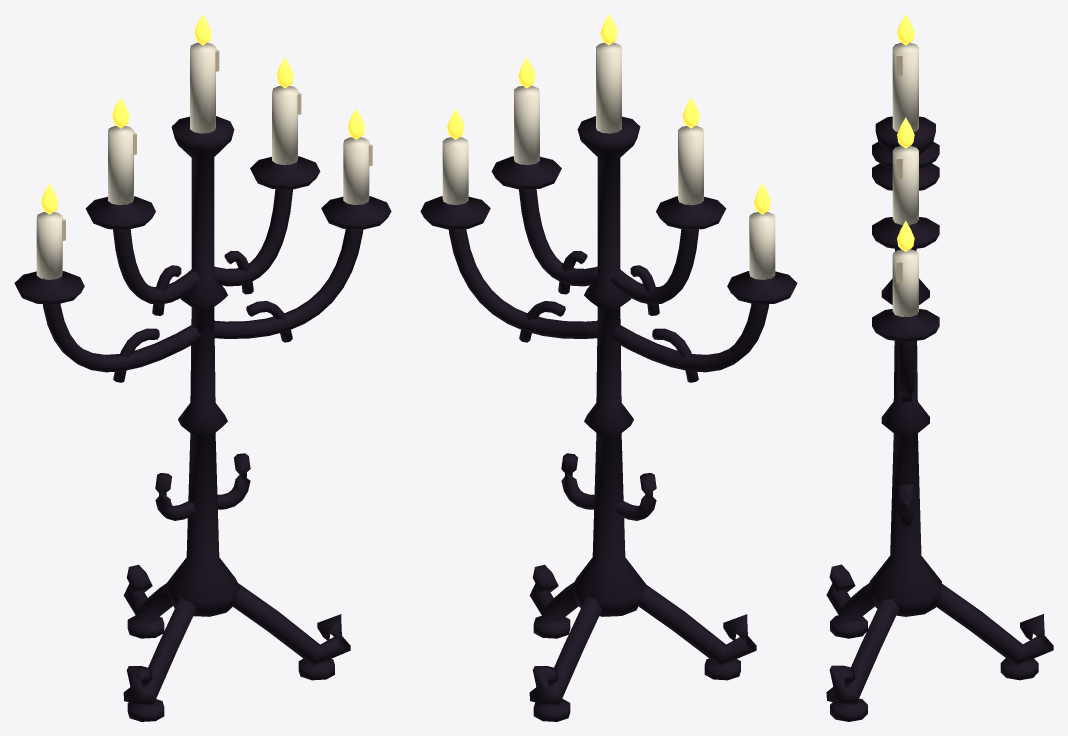
File: candelabra.glb
3 renders of one model, left to right at view 1: azimuth 30°, elevation 25°; view 2: azimuth 150°, elevation 25°; view 3: azimuth 270°, elevation 25°, orthographic.
Visible parts, largest first — view 1: candelabra; view 2: candelabra; view 3: candelabra.
Boxes of the visible parts, <box> form: candelabra: <box>14,14,391,721</box>; candelabra: <box>420,14,797,721</box>; candelabra: <box>826,14,1053,721</box>.
Bounding box in the file's own units: 0.672 × 1.15 × 0.3593.
